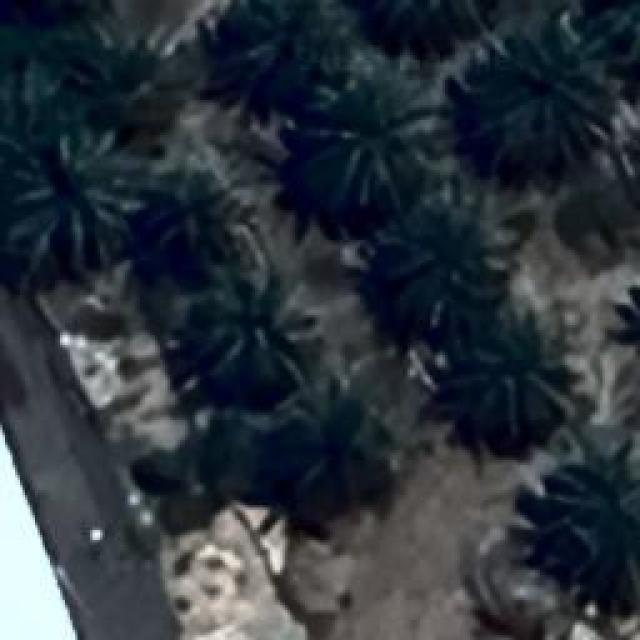PalmTree: (35, 41, 604, 111), (325, 78, 450, 208), (474, 48, 612, 164), (58, 18, 186, 142), (15, 130, 143, 252), (222, 2, 350, 102), (384, 217, 508, 315), (468, 325, 578, 430), (204, 284, 308, 394), (280, 404, 388, 508), (565, 466, 640, 609), (146, 178, 224, 270), (378, 0, 492, 60), (472, 600, 566, 640), (613, 276, 640, 380), (622, 276, 640, 376)
